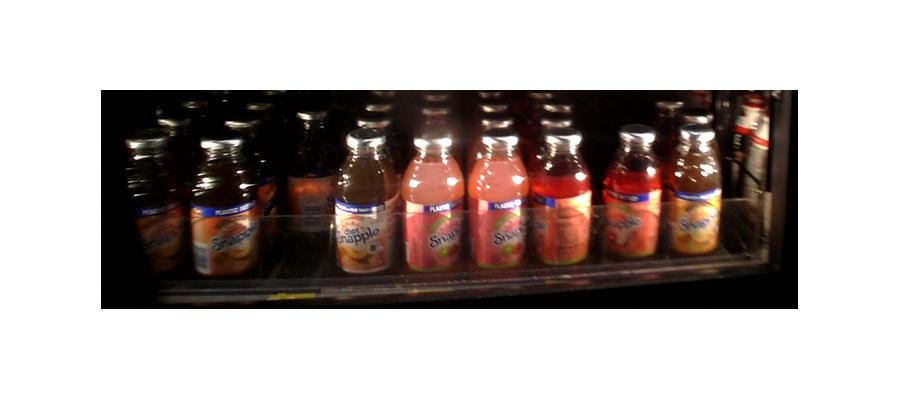bottle: (120, 129, 186, 279), (189, 136, 258, 279), (336, 128, 397, 278), (531, 127, 592, 269), (602, 121, 663, 261), (403, 134, 464, 273), (471, 133, 526, 269), (670, 118, 722, 259), (289, 101, 336, 240)
